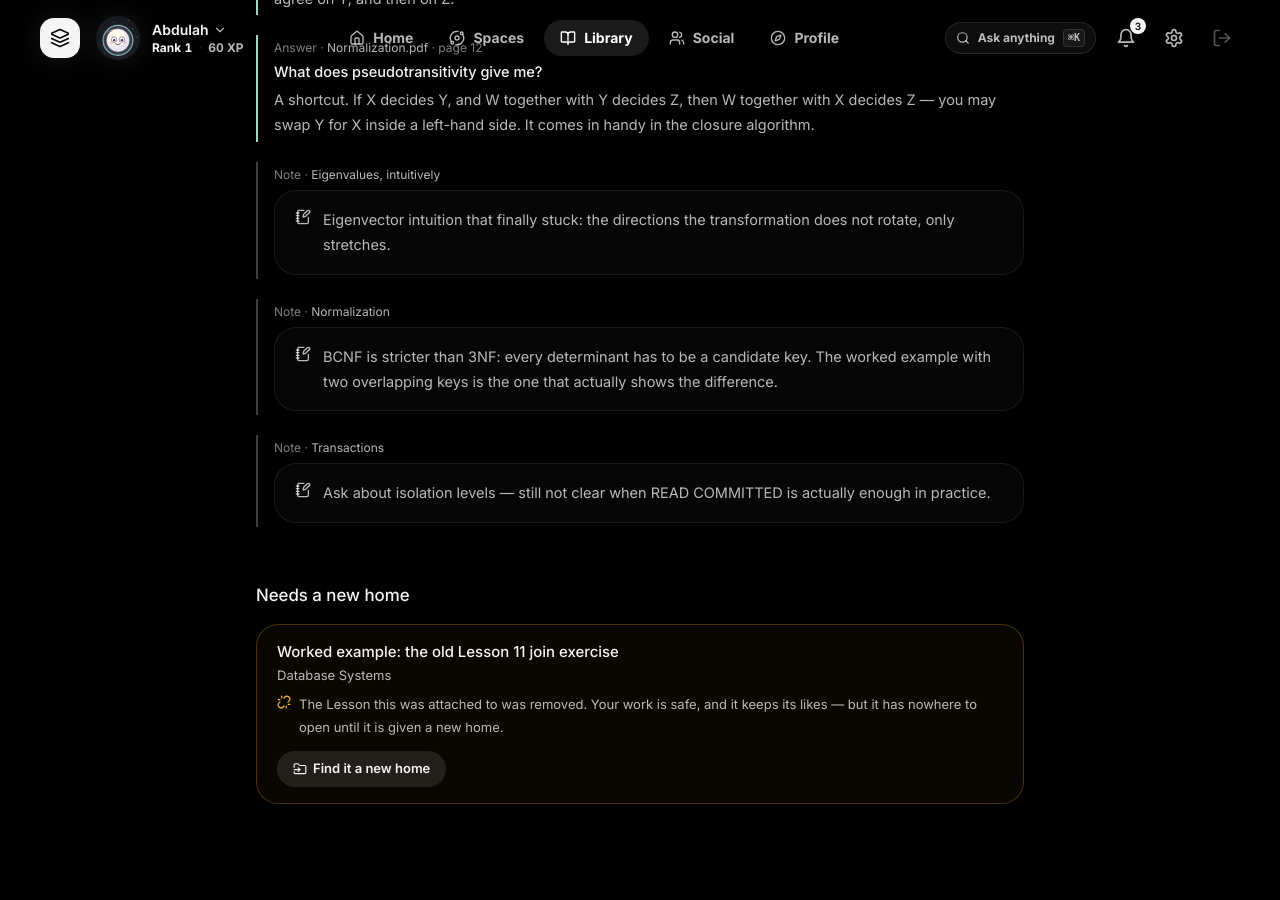
Test: Library can re-home an orphan › moves it, and the row stops warning
This screenshot has width=1280, height=900.
(page scrolled)
Step 1. Click the button "Find it a new home" → coordinates (362, 769), box [277,751,446,787]
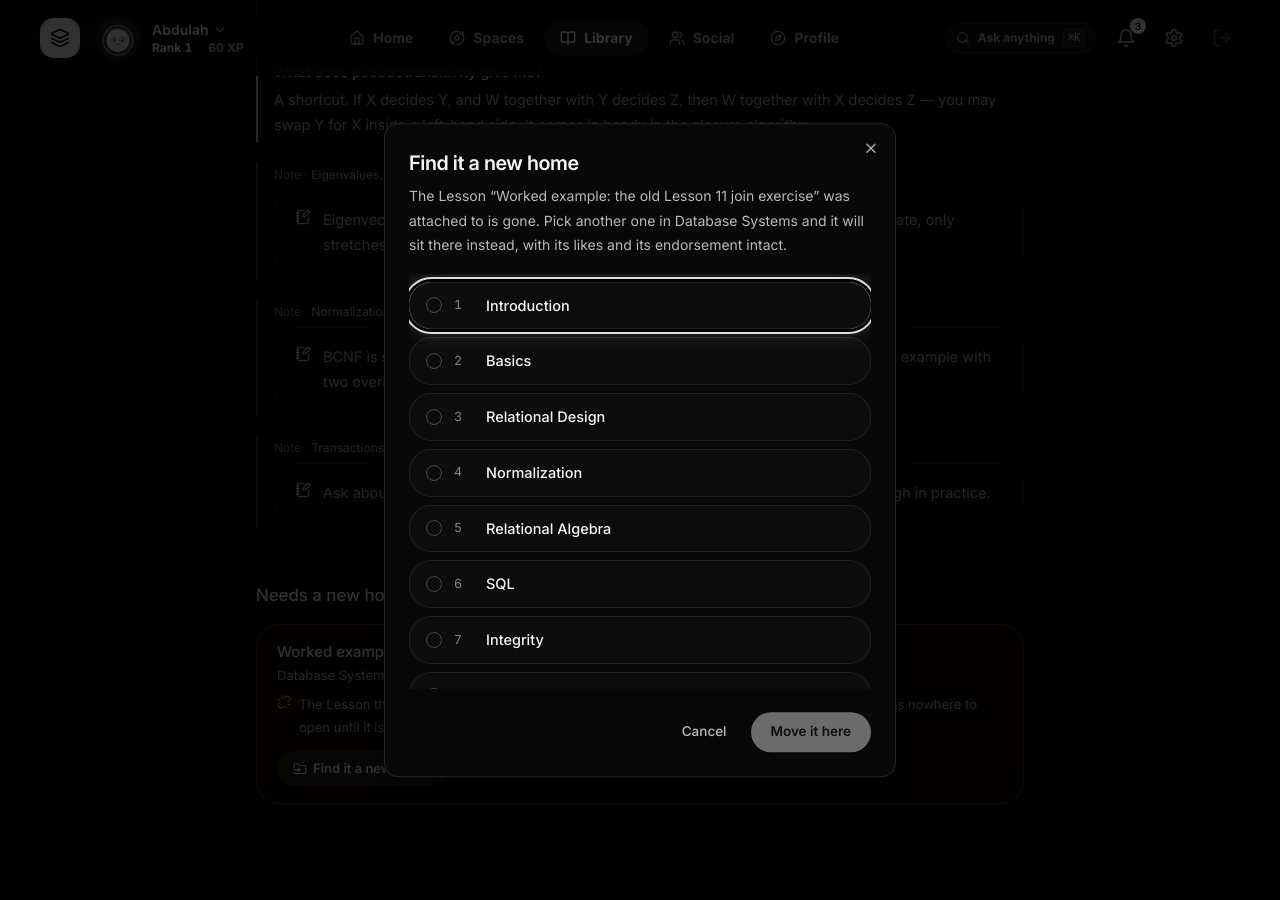
Expected: the radio button labelled "1 Introduction" is shown
Expected: the button "Move it here" is disabled, [750,712,871,752]
Step 2. Click the radio button labelled "1 Introduction" → coordinates (528, 305), box [409,282,871,330]
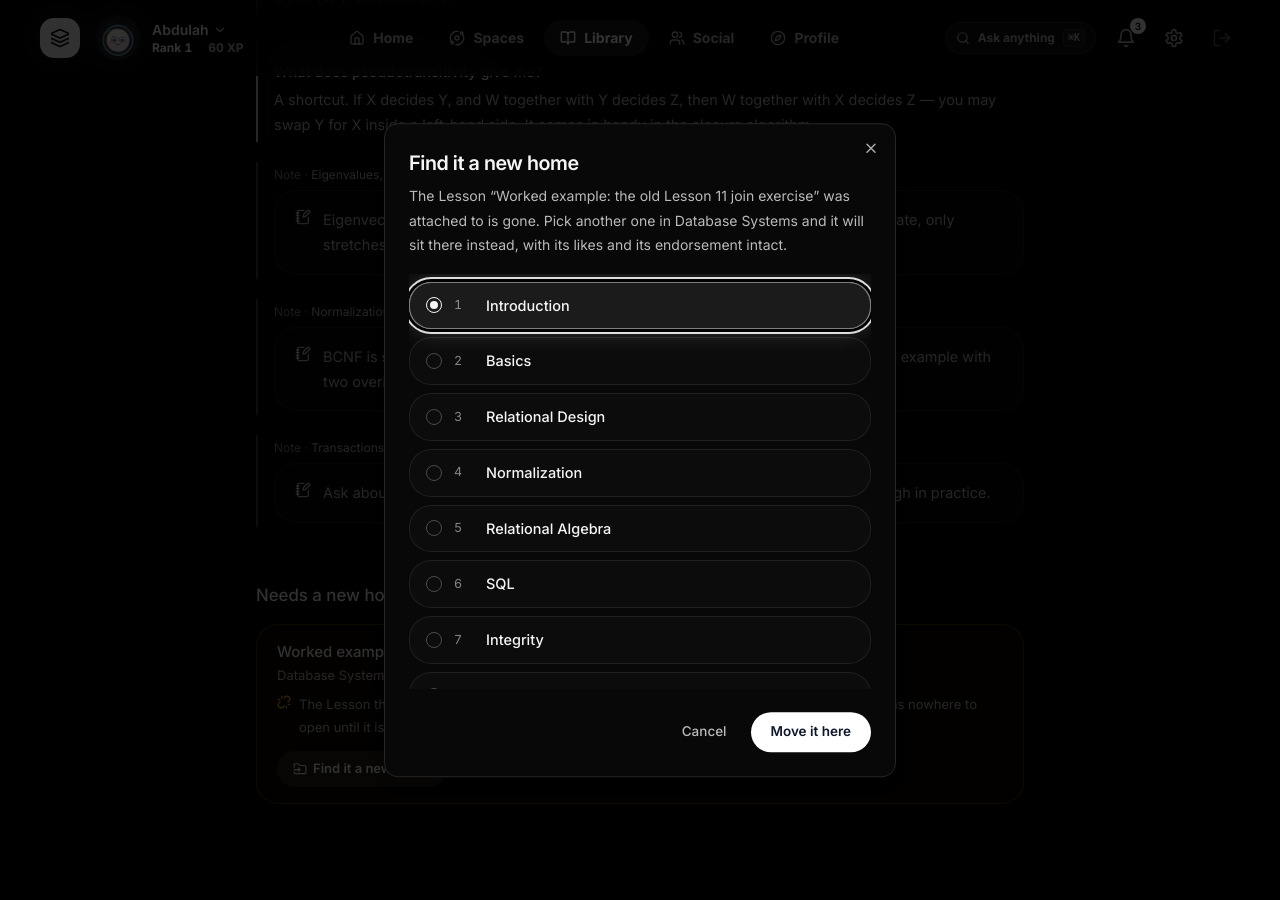
Expected: the button "Move it here" is enabled
Step 3. Click the button "Move it here" → coordinates (811, 732), box [750,712,871,752]
(page scrolled)
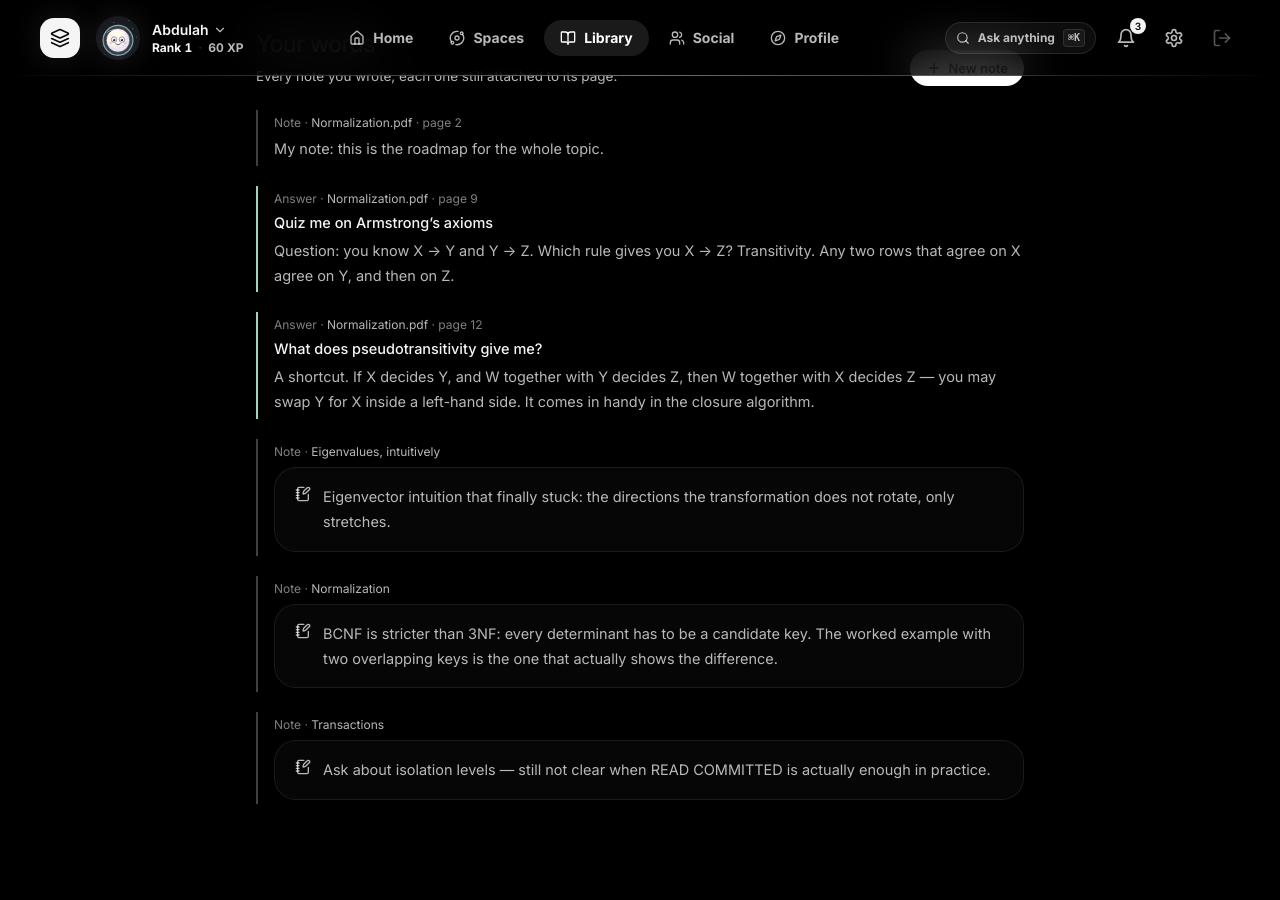
Expected: the button "Find it a new home" is gone
